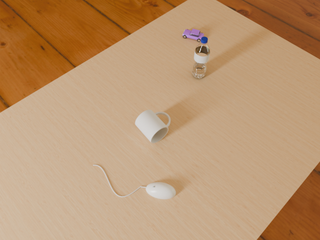bottle: (192, 36, 210, 79)
cup: (135, 110, 170, 143)
mouse: (146, 182, 176, 199)
toy_car: (182, 29, 204, 42)
